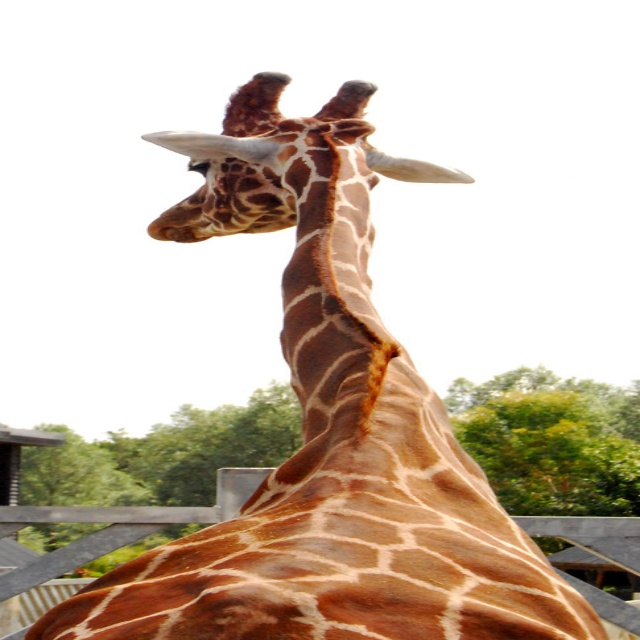Giraffe: (52, 72, 615, 610)
